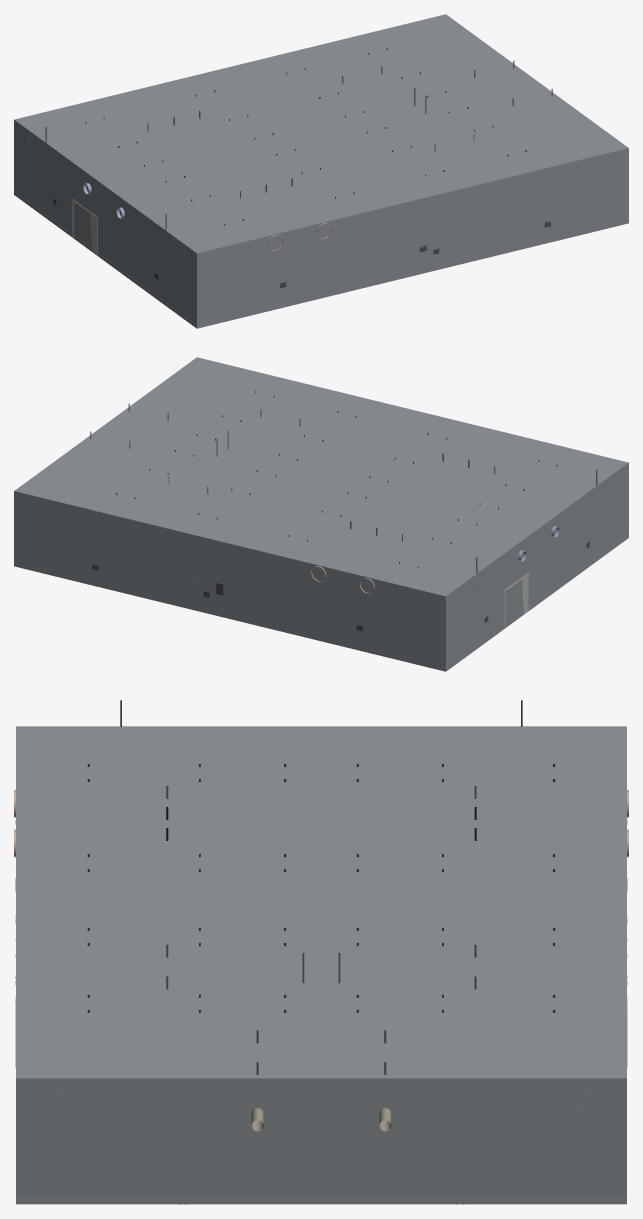
The model's file is Laundry_Env.fbx.
3 views of the same model, one above another, from view 1: azimuth 30°, elevation 25°; view 2: azimuth 150°, elevation 25°; view 3: azimuth 270°, elevation 25° (orthographic). The views are drawn at different scales.
Visible parts, largest first — view 1: Plane.004, Plane.002; view 2: Plane.004, Plane.002; view 3: Plane.004, Plane.002.
Part boxes in pixels (box(x1,y1,x2,y2)): Plane.004: box(14, 14, 628, 253); Plane.002: box(14, 120, 628, 328); Plane.004: box(14, 357, 628, 596); Plane.002: box(14, 463, 628, 671); Plane.004: box(16, 726, 626, 1078); Plane.002: box(16, 1078, 626, 1204).
Size of the model in its own units: 31.23 by 6.2 by 22.14.
